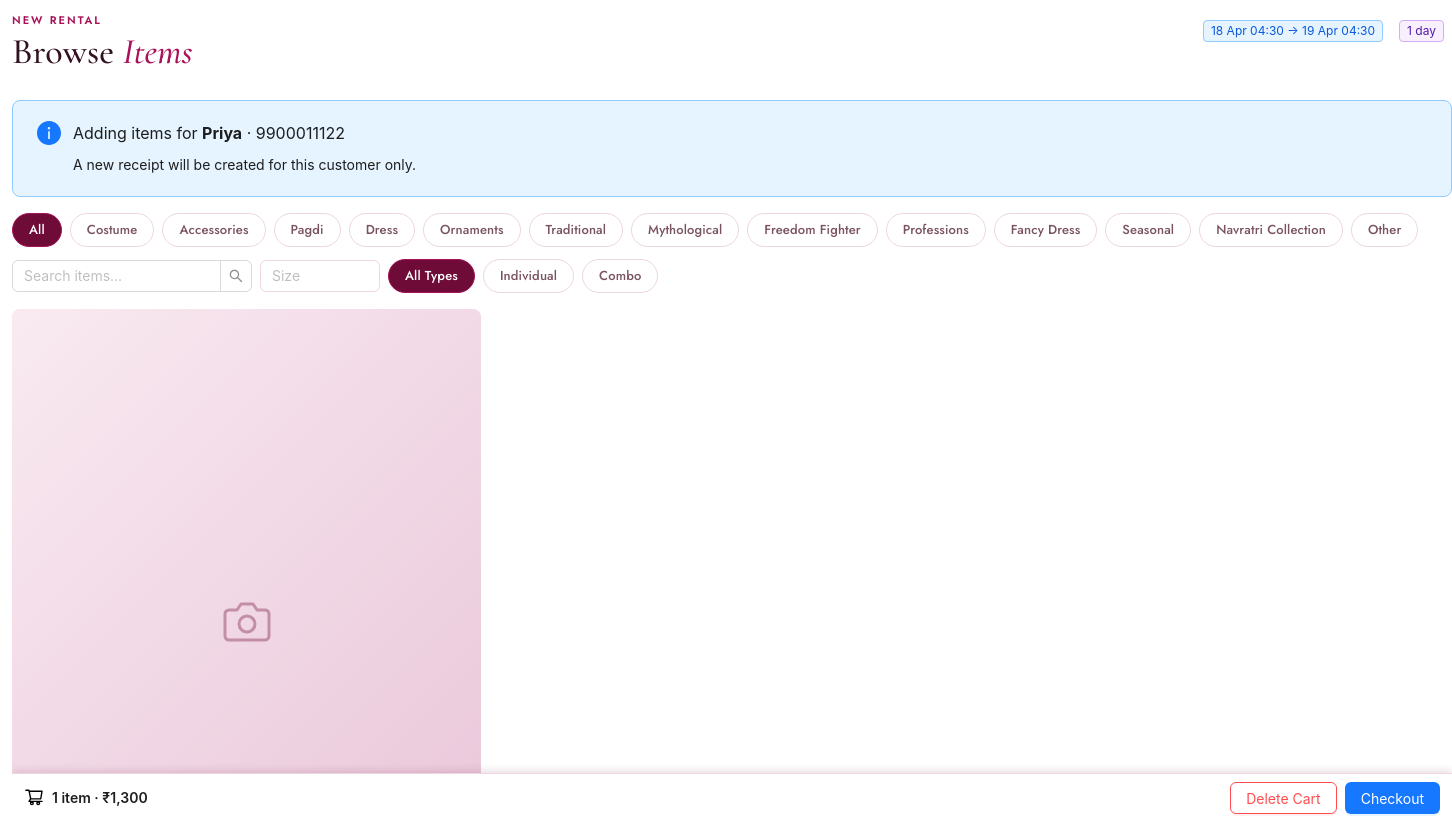
Test: CheckoutPage customer carried over from a receipt (#165) › AC13: Delete Cart drops the pinned customer so the home screen shows a fresh start
Click the button "Delete Cart" at (1283, 798), box [1230, 782, 1337, 814]
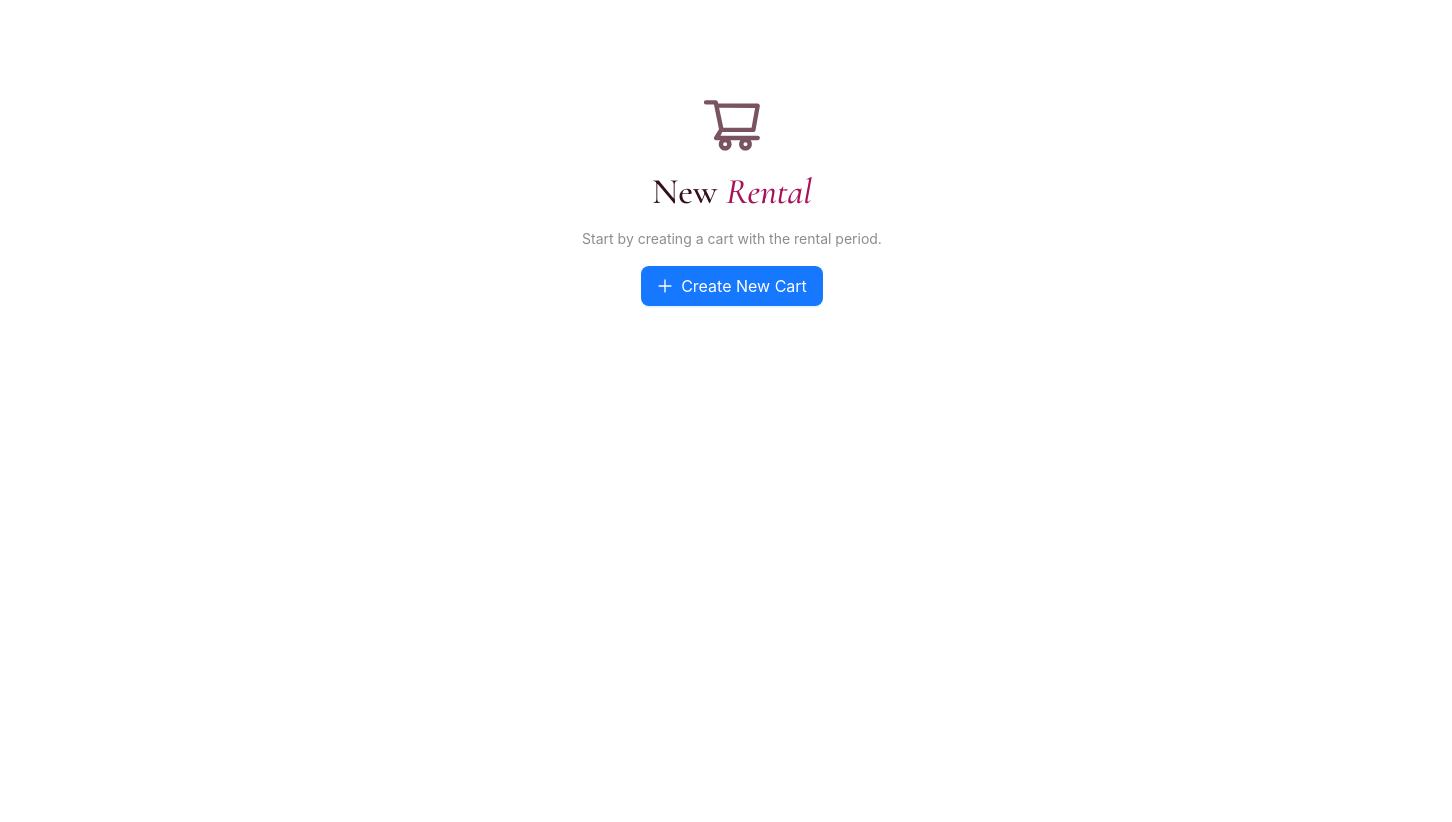
Check: the button "Create New Cart" is shown, box [641, 266, 823, 306]
Check: the text "Adding items for" is gone
